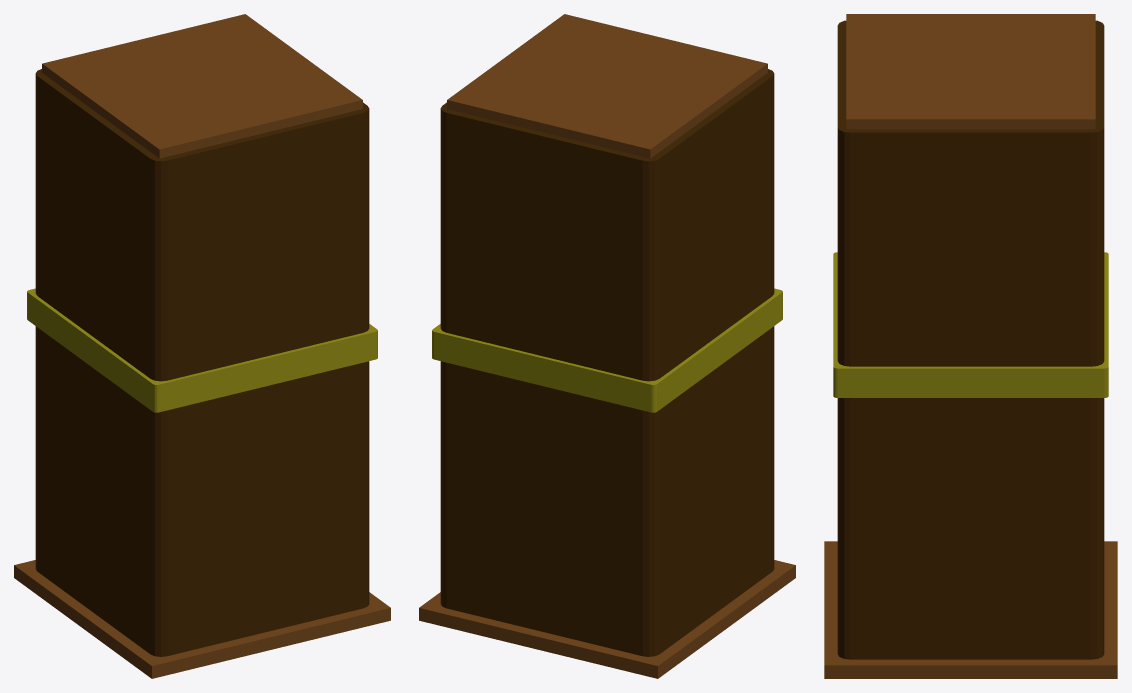
Rendered from stend.fbx.
3 views of the same model, side by side, from view 1: azimuth 30°, elevation 25°; view 2: azimuth 150°, elevation 25°; view 3: azimuth 270°, elevation 25° (orthographic). The views are drawn at different scales.
Parts seen in each view (by area): view 1: Cube; view 2: Cube; view 3: Cube.
Part boxes in pixels (x1,y1,x2,y2): Cube: (14, 14, 390, 678); Cube: (419, 14, 795, 678); Cube: (824, 14, 1117, 678).
Size of the model in its own units: 56.03 by 116 by 56.03.
